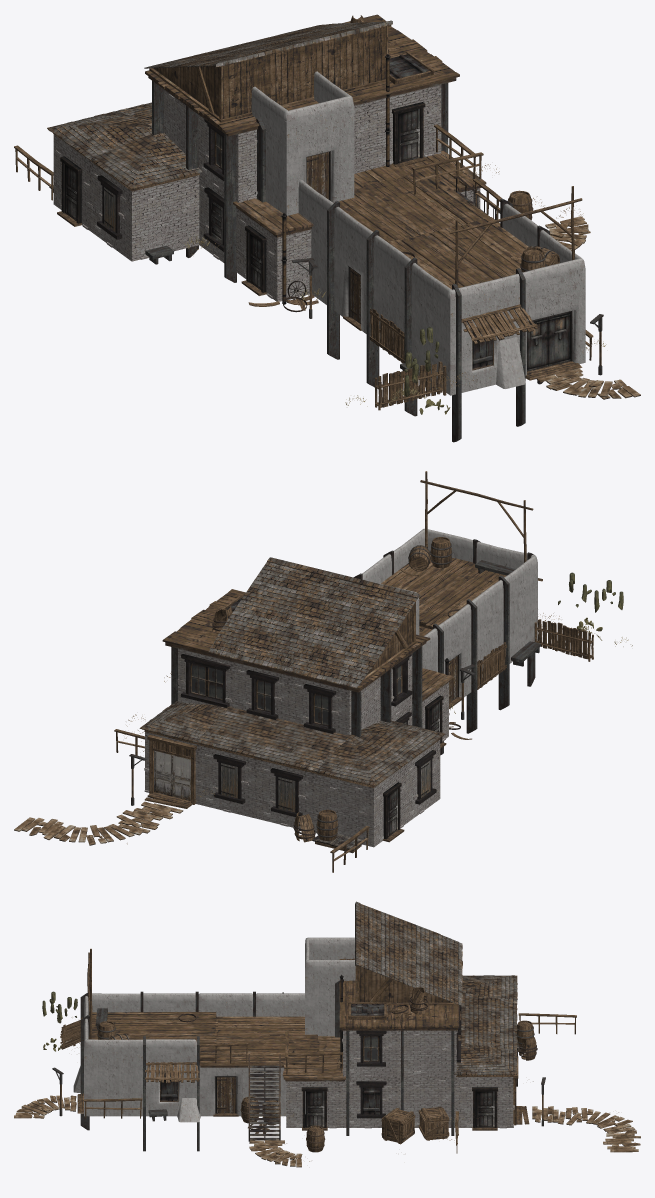
File: House_10.gltf
3 views of the same model, one above another, from view 1: azimuth 30°, elevation 25°; view 2: azimuth 150°, elevation 25°; view 3: azimuth 270°, elevation 25° (orthographic). The views are drawn at different scales.
Parts seen in each view (by area): view 1: Roof_W6D6_v3_M2, Roof_W6D6_v2_M2, Roof_W6D6_v2_M2 (1), Wall_W3H3_T2_M2 (9), Roof_W6_v1_M2, RoofExtension_W3_v1_M2 (2), Wall_W6H3_T3_M2 (1), Wall_D_W3H3_T3_M2 (2), RoofExtension_W3_v1_M2 (1), Wall_D_W3H3_T2_M2 (5), Roof_W6_v1_M2 (2), Door (×3) (+45 smaller); view 2: Roof_W6D6_v3_M2, RoofExtension_W6_v1_M2, Window_W_v4_M2 (×5), Roof_W6D6_v2_M2 (1), RoofExtension_W3_v1_M2 (1), Woodpath_v5_M2, Wall_W3H3_T2_M2 (8), Wall_W6H3_T3_M2 (1), Wall_W_W3H3_T2_M2 (2), RoofExtension_W3_v1_M2, Wall_W_W3H3_T2_M2 (1), Roof_W6D6_v1_M2 (1) (+31 smaller); view 3: Roof_W6D6_v3_M2, Roof_W6D6_v2_M2, Roof_W6D6_v2_M2 (1), RoofExtension_W6_v1_M2, Wall_W3H3_T3_M2 (4), Roof_W6_v1_M2 (1), Roof_W6D6_v1_M2 (1), Wall_W3H3_T2_M2 (2), Stairs_W2H3D3_v1_M2, Door (×3), Woodpath_v5_M2, Wall_W3H3_T2_M2 (+33 smaller).
Part boxes in pixels (bbox=[...]): Roof_W6D6_v3_M2: bbox=[144, 20, 392, 122]; Roof_W6D6_v2_M2: bbox=[333, 171, 489, 242]; Roof_W6D6_v2_M2 (1): bbox=[389, 217, 528, 289]; Wall_W3H3_T2_M2 (9): bbox=[132, 175, 199, 261]; Roof_W6_v1_M2: bbox=[450, 258, 585, 324]; RoofExtension_W3_v1_M2 (2): bbox=[91, 133, 202, 191]; Wall_W6H3_T3_M2 (1): bbox=[373, 269, 450, 395]; Wall_D_W3H3_T3_M2 (2): bbox=[286, 129, 354, 215]; RoofExtension_W3_v1_M2 (1): bbox=[47, 111, 151, 162]; Wall_D_W3H3_T2_M2 (5): bbox=[373, 84, 441, 168]; Roof_W6_v1_M2 (2): bbox=[373, 235, 451, 324]; Door (×3): bbox=[249, 108, 419, 289]; Roof_W6D6_v3_M2: bbox=[208, 557, 420, 688]; RoofExtension_W6_v1_M2: bbox=[194, 707, 350, 773]; Window_W_v4_M2 (×5): bbox=[213, 654, 412, 816]; Roof_W6D6_v2_M2 (1): bbox=[381, 554, 506, 629]; RoofExtension_W3_v1_M2 (1): bbox=[315, 735, 411, 787]; Woodpath_v5_M2: bbox=[14, 801, 183, 845]; Wall_W3H3_T2_M2 (8): bbox=[316, 774, 373, 847]; Wall_W6H3_T3_M2 (1): bbox=[477, 583, 537, 677]; Wall_W_W3H3_T2_M2 (2): bbox=[202, 746, 259, 819]; RoofExtension_W3_v1_M2: bbox=[139, 701, 235, 744]; Wall_W_W3H3_T2_M2 (1): bbox=[259, 760, 316, 833]; Roof_W6D6_v1_M2 (1): bbox=[162, 589, 283, 673]; Roof_W6D6_v3_M2: bbox=[355, 901, 462, 1005]; Roof_W6D6_v2_M2: bbox=[199, 1016, 319, 1067]; Roof_W6D6_v2_M2 (1): bbox=[88, 1012, 217, 1060]; RoofExtension_W6_v1_M2: bbox=[458, 992, 517, 1051]; Wall_W3H3_T3_M2 (4): bbox=[84, 1064, 140, 1116]; Roof_W6_v1_M2 (1): bbox=[84, 1039, 196, 1064]; Roof_W6D6_v1_M2 (1): bbox=[339, 981, 459, 1030]; Wall_W3H3_T2_M2 (2): bbox=[400, 1030, 456, 1076]; Stairs_W2H3D3_v1_M2: bbox=[248, 1054, 281, 1141]; Door (×3): bbox=[217, 1077, 494, 1127]; Woodpath_v5_M2: bbox=[532, 1106, 640, 1152]; Wall_W3H3_T2_M2: bbox=[400, 1076, 456, 1127].
Size of what is drawn, in the model's own units: 17.78 by 10.9 by 33.14.
Materials: 2 (2 with a texture image).
